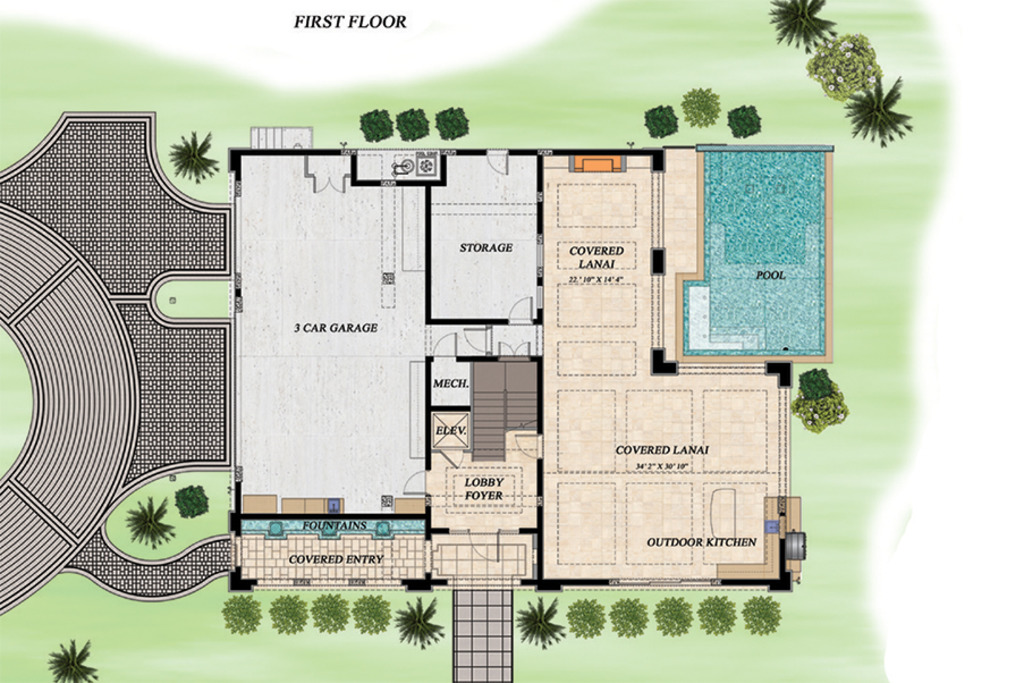door: (305, 161, 350, 196), (466, 525, 508, 562), (501, 292, 541, 321), (508, 430, 545, 457), (482, 147, 512, 176), (400, 467, 428, 497), (496, 341, 537, 360), (463, 326, 491, 353), (431, 331, 458, 356), (438, 449, 466, 464)
stairs: (466, 356, 543, 459)
